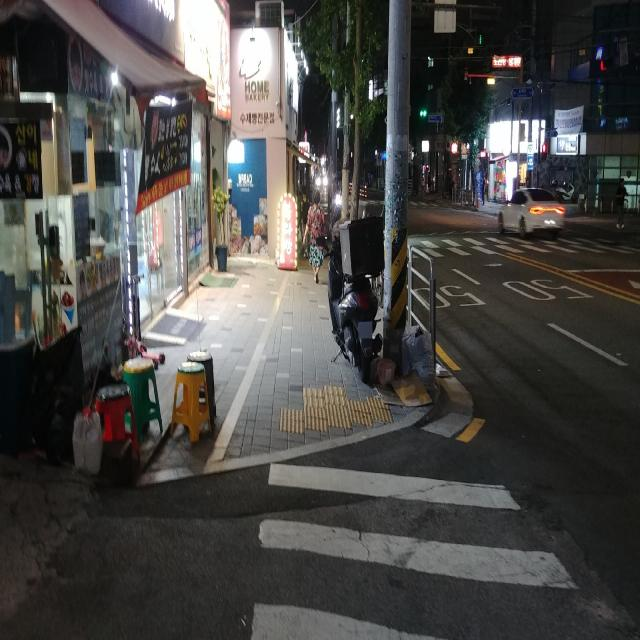횡단보도: (252, 461, 580, 640), (414, 238, 630, 260), (541, 141, 547, 161)
